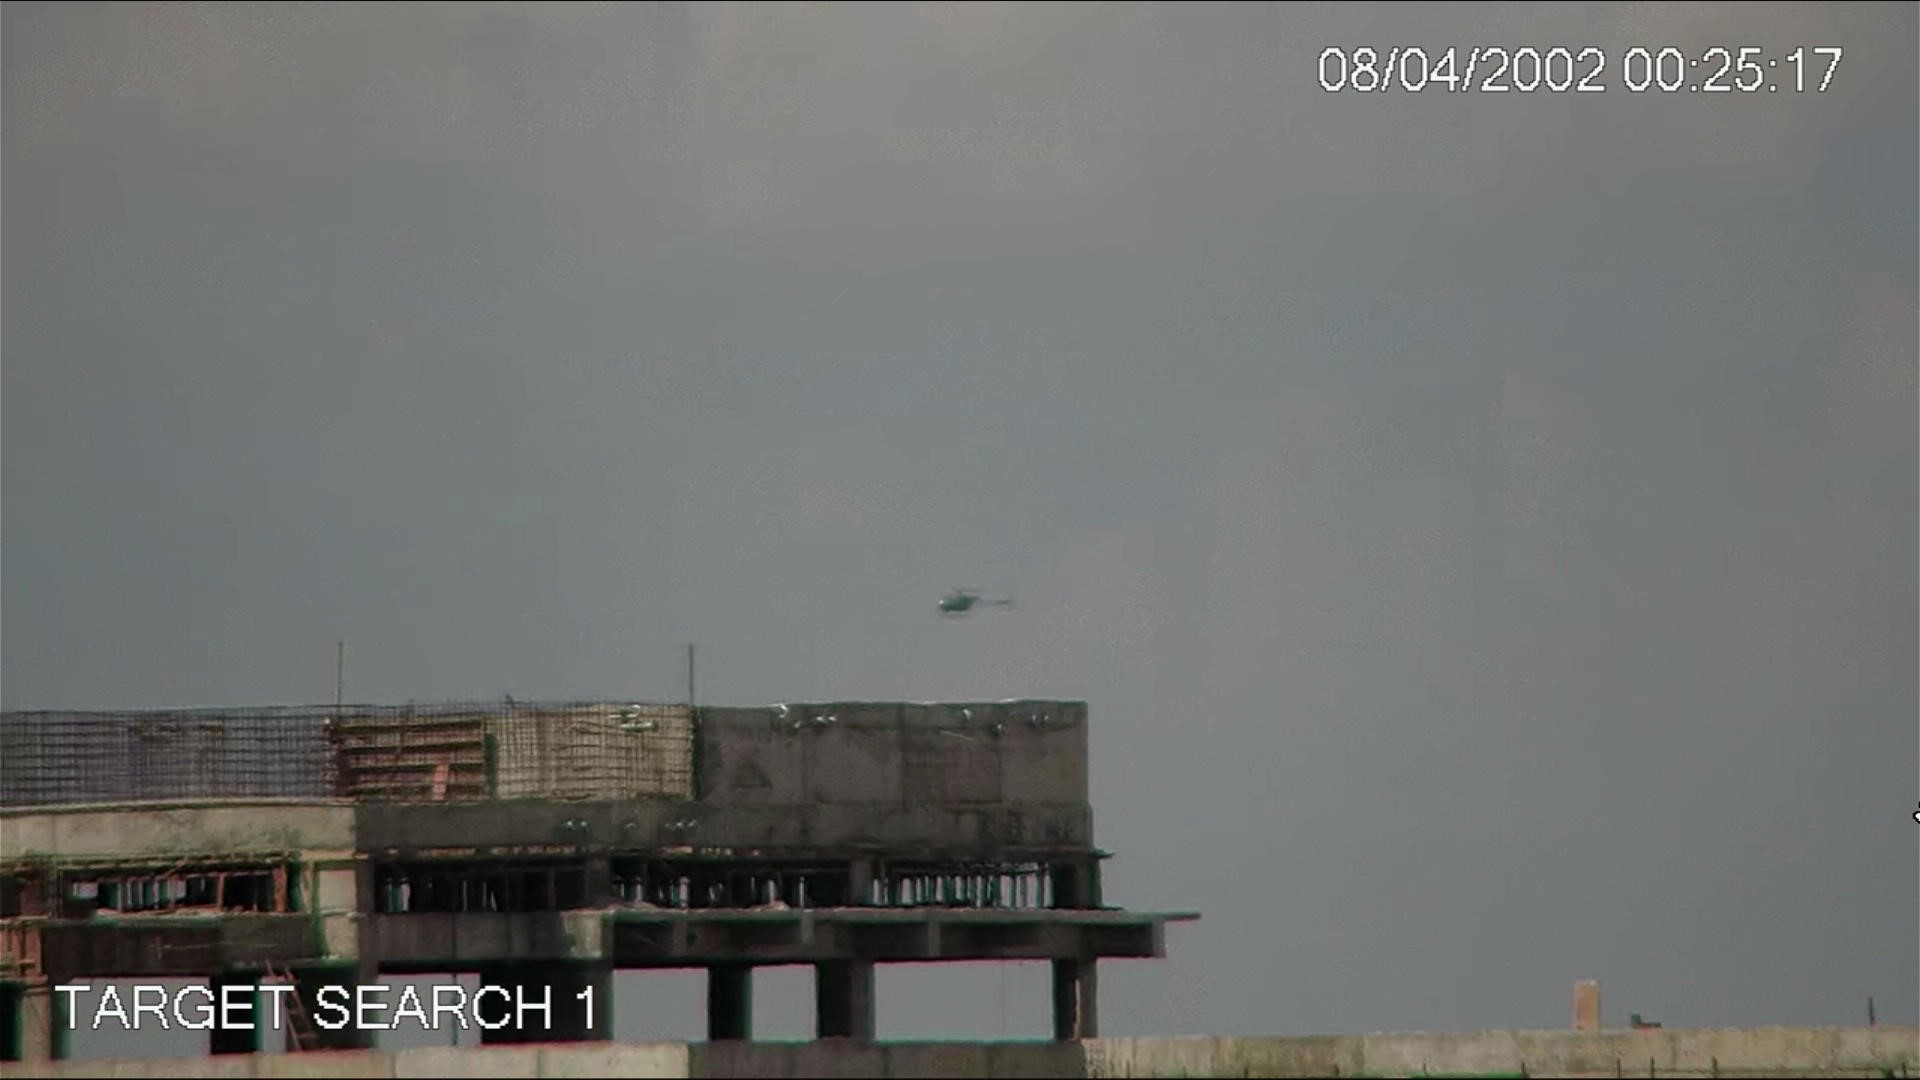SU_30: (931, 576, 1021, 625)
